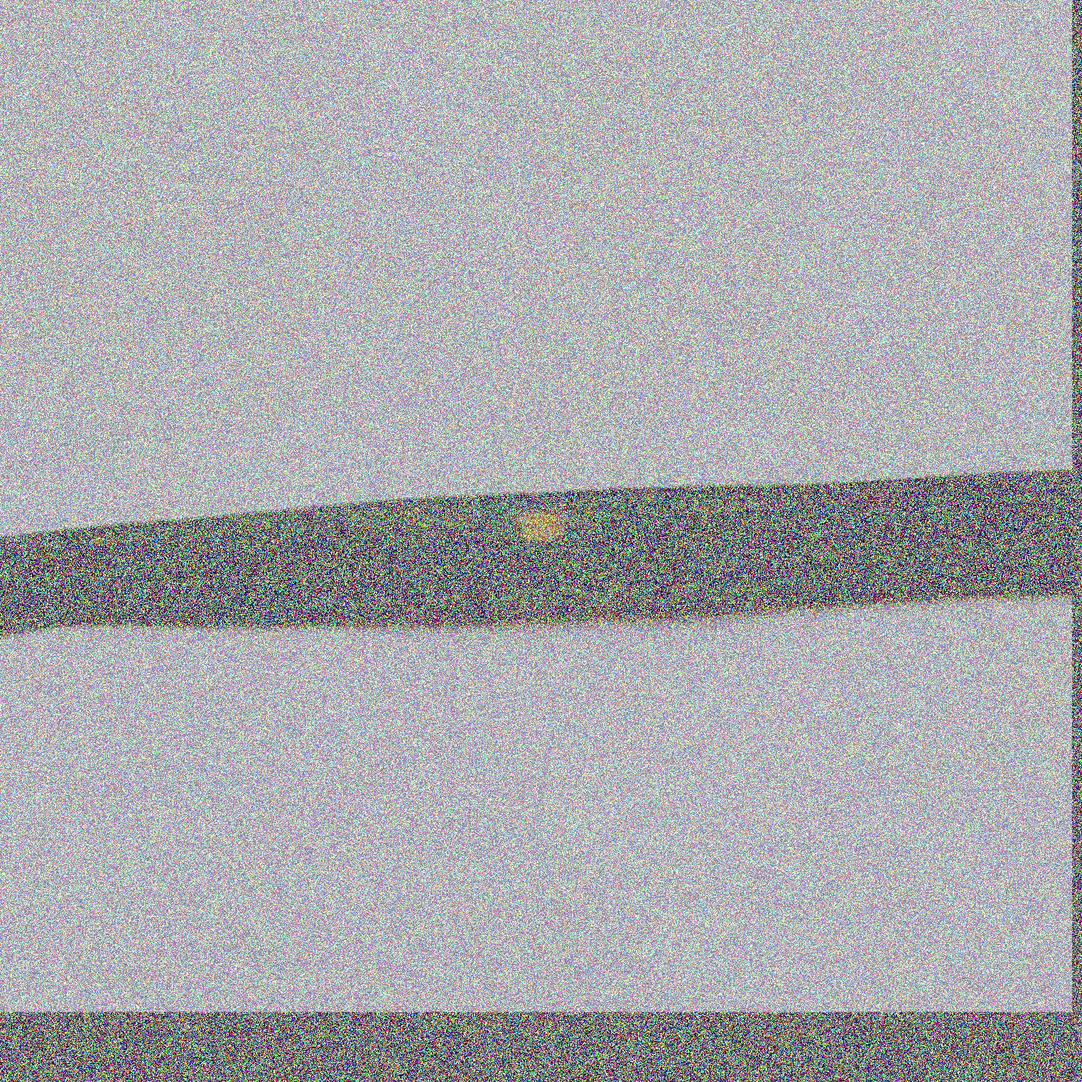Brown_Spot: (493, 483, 584, 548)
